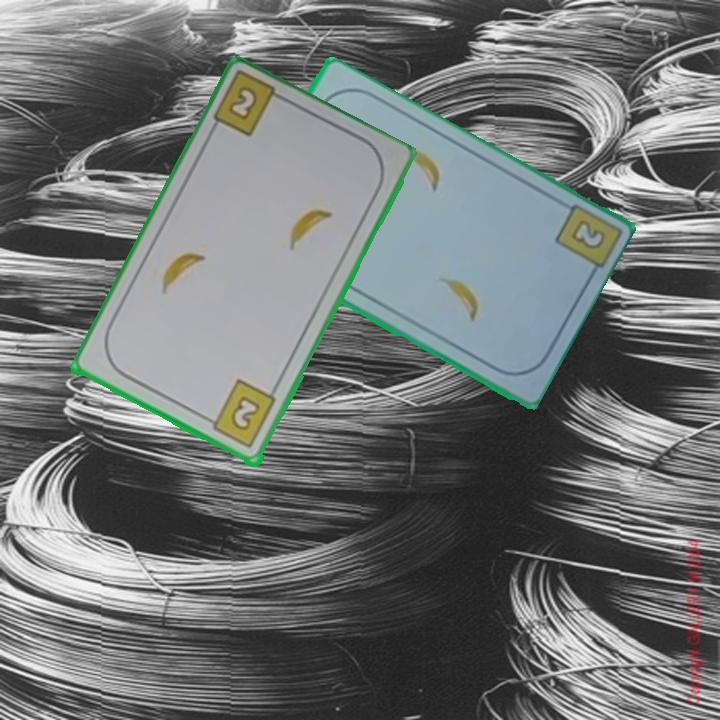2b: (201, 377, 279, 452), (567, 216, 608, 253), (224, 86, 257, 124)
